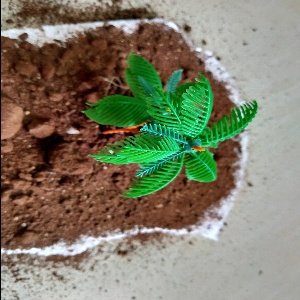plant: (80, 51, 261, 201)
